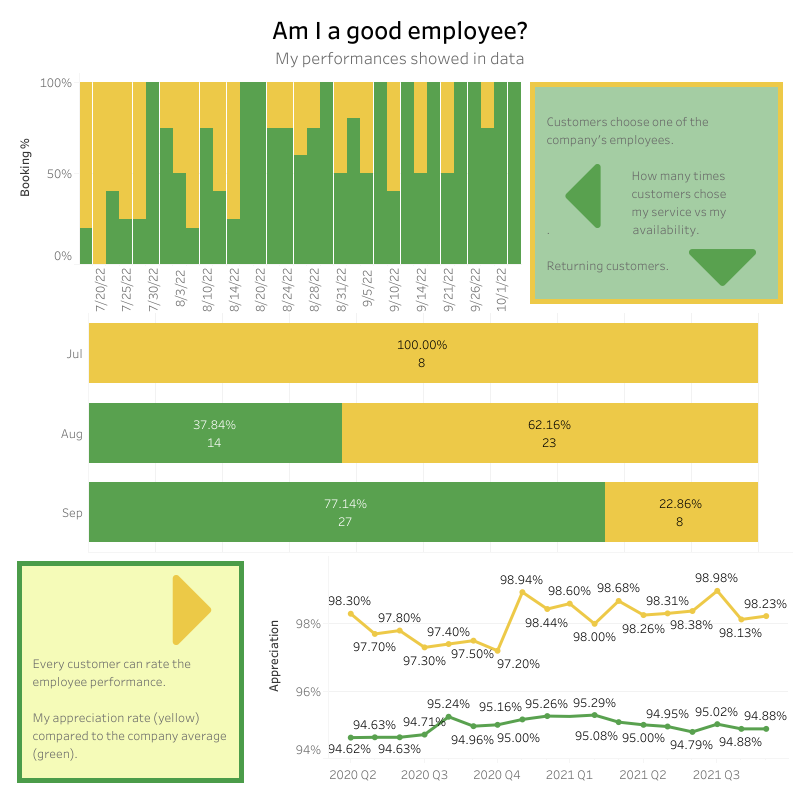

The dashboard page shown, as its layout file describes it:
{"tool":"tableau","page":{"name":"Dashboard 1","canvas":[800,800],"ordinal":0},"visuals":[{"type":"title","box":[8,8,784,64]},{"type":"worksheet","title":"Sheet 1","mark":"Bar","cols":["Date"],"box":[8,72,513,240]},{"type":"text","box":[521,72,271,240]},{"type":"image","param":"Image/arrow_green.png","box":[551,158,64,76]},{"type":"image","param":"Image/arrow_green_2.png","box":[661,234,123,67]},{"type":"worksheet","title":"Sheet 3","mark":"Bar","rows":["Date"],"box":[8,312,784,240]},{"type":"text","box":[8,552,245,240]},{"type":"worksheet","title":"Sheet 2","mark":"Automatic","cols":["Month"],"box":[253,552,539,240]},{"type":"image","param":"Image/arrow_yellow.png","box":[156,575,73,70]}]}

Visuals, with their boxes in screenshot pixels (x1, y1, x2, y2), scaled from the page's 800x800 canvas onto the 799x799 screenshot:
title: BBox(8, 8, 791, 72)
"Sheet 1" worksheet (Bar marks): BBox(8, 72, 520, 312)
text: BBox(520, 72, 791, 312)
image: BBox(550, 158, 614, 234)
image: BBox(660, 234, 783, 301)
"Sheet 3" worksheet (Bar marks): BBox(8, 312, 791, 551)
text: BBox(8, 551, 253, 791)
"Sheet 2" worksheet: BBox(253, 551, 791, 791)
image: BBox(156, 574, 229, 644)
